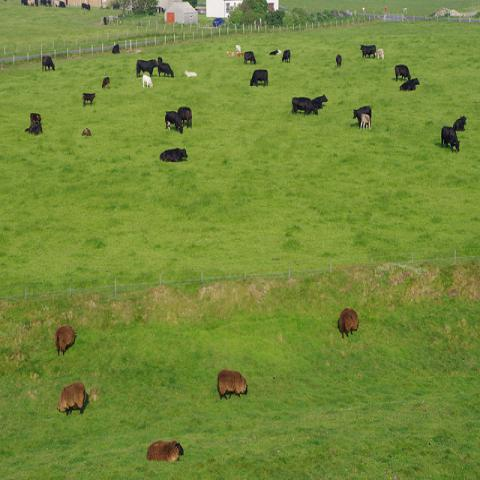car: (212, 18, 226, 27)
